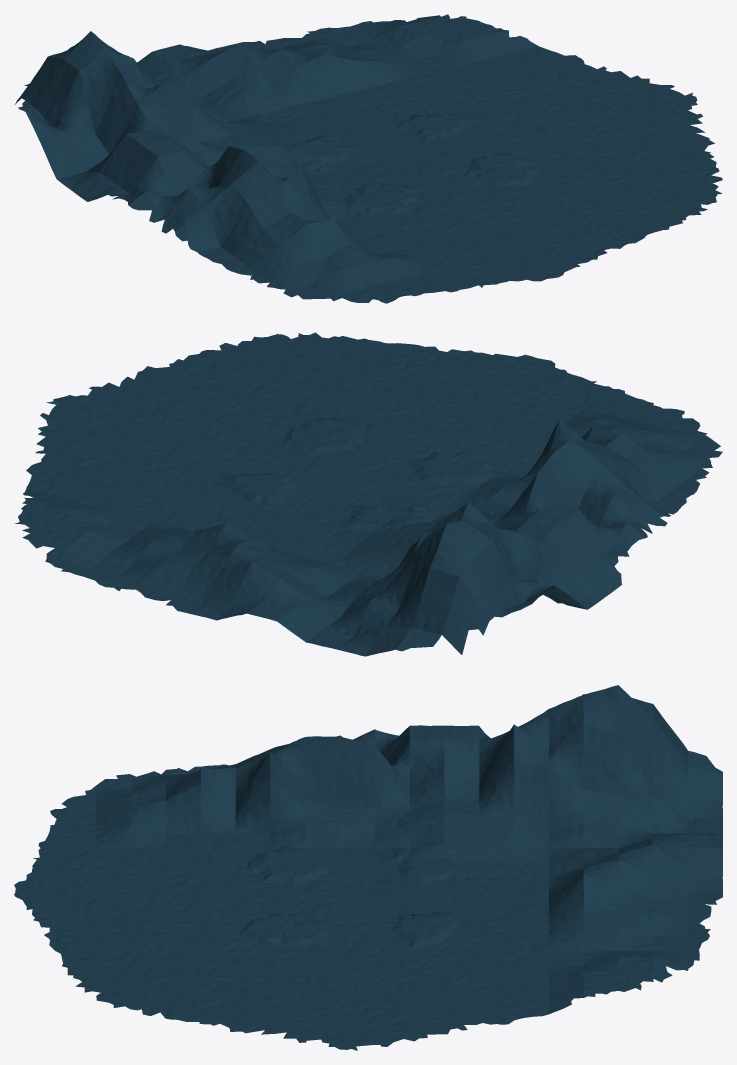
Rendered from Terrain8.glb.
3 renders of one model, top to bottom at view 1: azimuth 30°, elevation 25°; view 2: azimuth 150°, elevation 25°; view 3: azimuth 270°, elevation 25°, orthographic. The views are drawn at different scales.
Visible parts, largest first — view 1: Plane; view 2: Plane; view 3: Plane.
Part boxes in pixels (bbox=[...]): Plane: bbox=[15, 14, 722, 303]; Plane: bbox=[15, 332, 722, 656]; Plane: bbox=[14, 685, 722, 1050].
Size of the model in its own units: 198 by 31.94 by 194.
